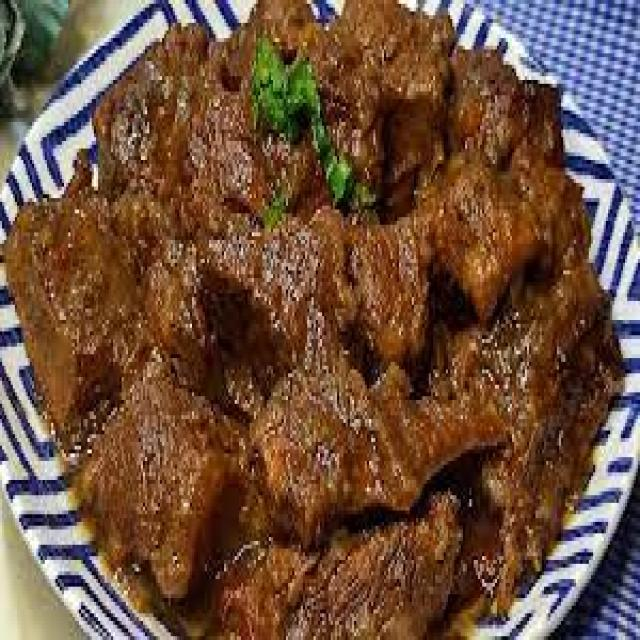Carne: (2, 0, 623, 636)
